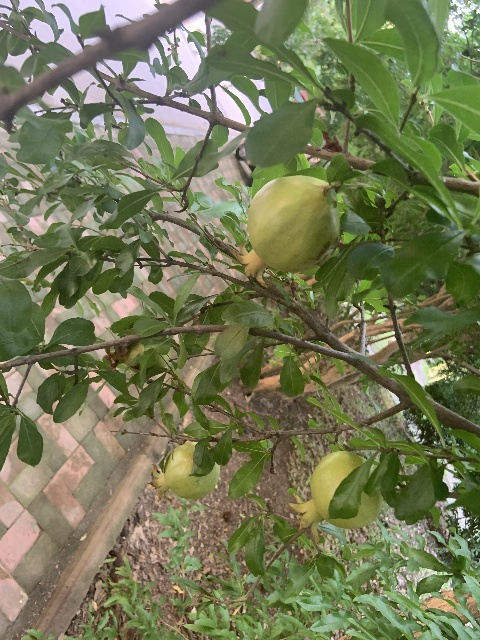mid-growth: (231, 175, 340, 288), (287, 450, 382, 543), (148, 441, 219, 503), (104, 339, 171, 374)
